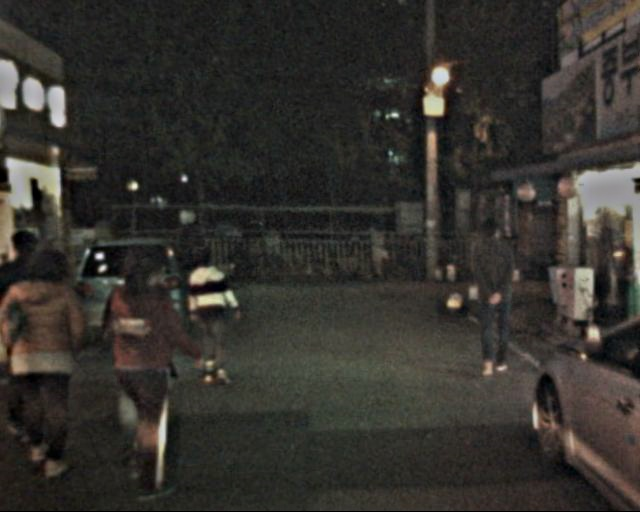person: (2, 239, 104, 484), (101, 246, 195, 500), (99, 238, 185, 463), (462, 212, 522, 382), (186, 236, 239, 388)
